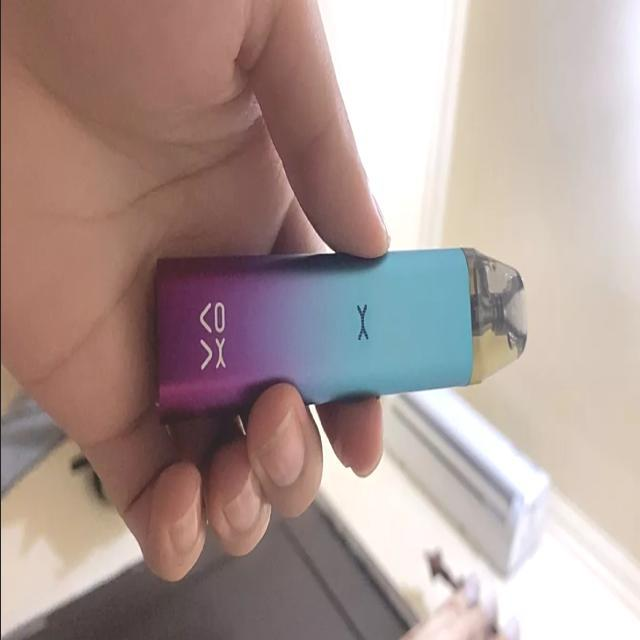Hazard: (149, 242, 530, 424)
